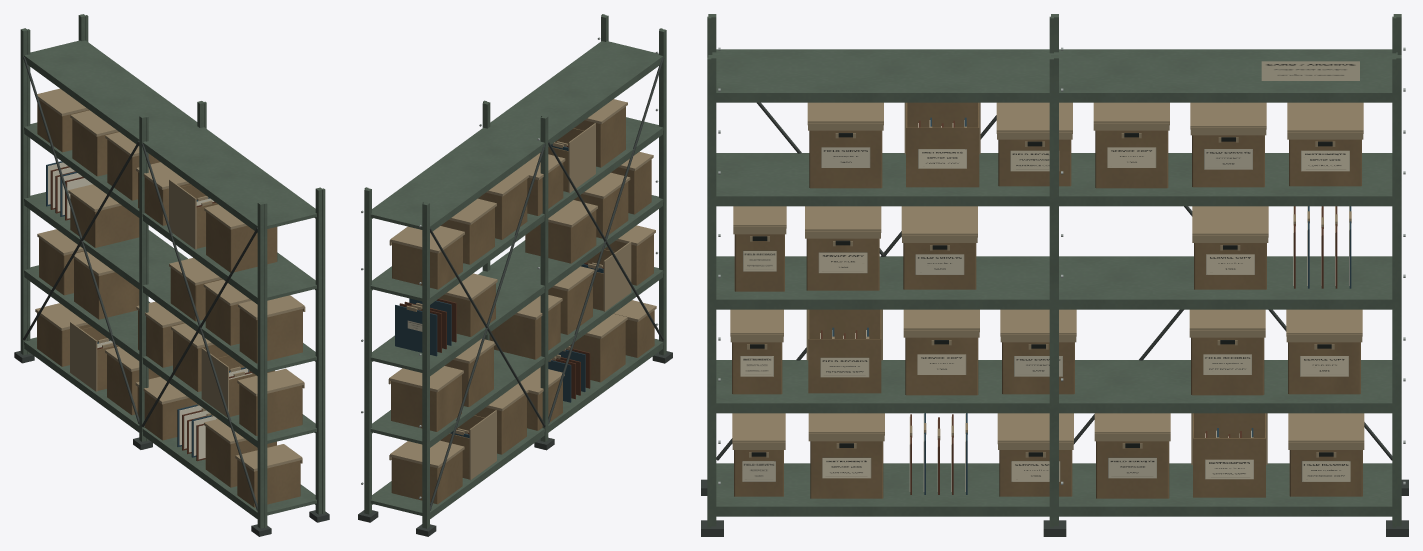
Rendered from SM_ArchiveProps_ShelvingStorage.glb.
3 views of the same model, side by side, from view 1: azimuth 30°, elevation 25°; view 2: azimuth 150°, elevation 25°; view 3: azimuth 270°, elevation 25° (orthographic). The views are drawn at different scales.
Visible parts, largest first — view 1: SM_ArchiveProps_ShelvingStorage; view 2: SM_ArchiveProps_ShelvingStorage; view 3: SM_ArchiveProps_ShelvingStorage.
Boxes of the visible parts, x1,y1,x2,y2 form: SM_ArchiveProps_ShelvingStorage: [14, 14, 329, 536]; SM_ArchiveProps_ShelvingStorage: [358, 14, 672, 536]; SM_ArchiveProps_ShelvingStorage: [701, 14, 1408, 536].
Bounding box in the file's own units: 0.514 × 2.3 × 3.1.
Materials: 10 (3 with a texture image).
